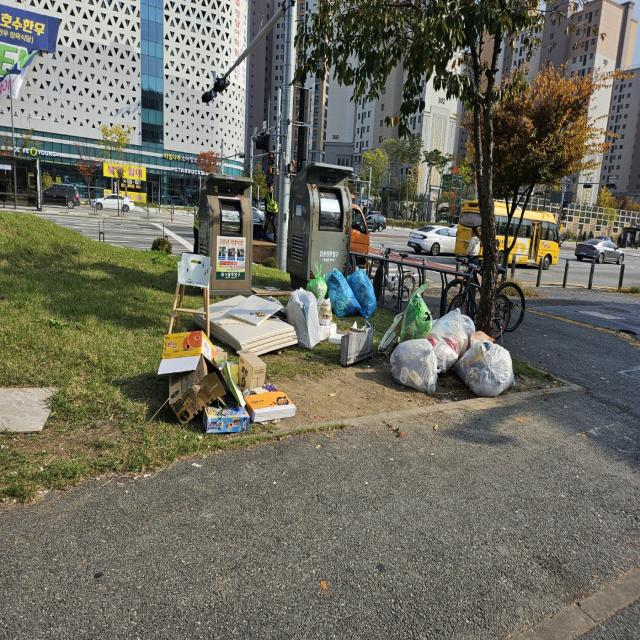CleanNet: (286, 155, 362, 291), (189, 172, 262, 302)
General Waste: (166, 332, 288, 430), (303, 268, 380, 316), (388, 345, 445, 400), (286, 287, 326, 360), (472, 345, 518, 403), (400, 281, 438, 347), (436, 305, 475, 351)
Large Waste Items: (170, 244, 225, 352)
